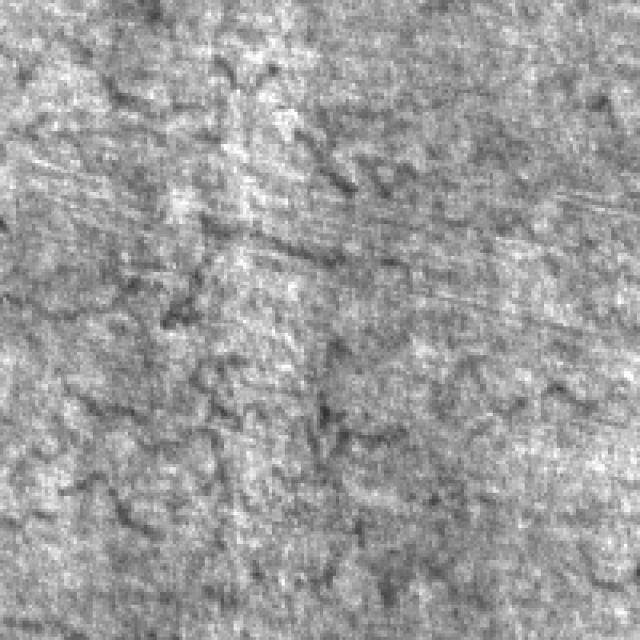crazing: (6, 20, 486, 326), (253, 307, 640, 598), (6, 339, 269, 547)
